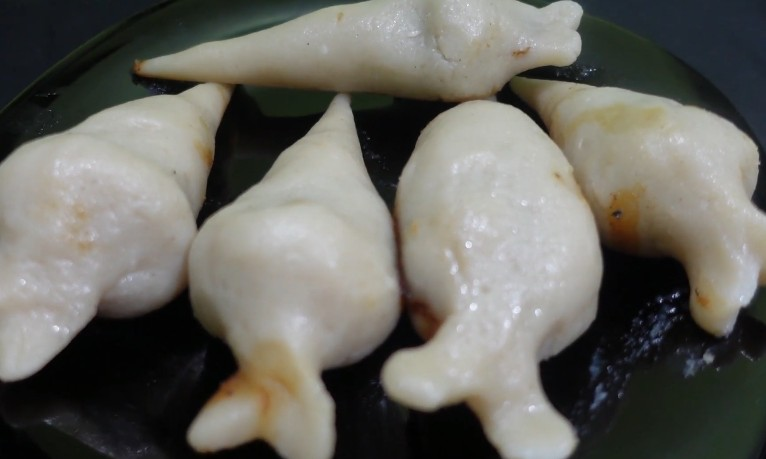yomari: (406, 184, 596, 459), (190, 193, 386, 459), (0, 152, 183, 400), (620, 132, 766, 331), (400, 8, 631, 84)
